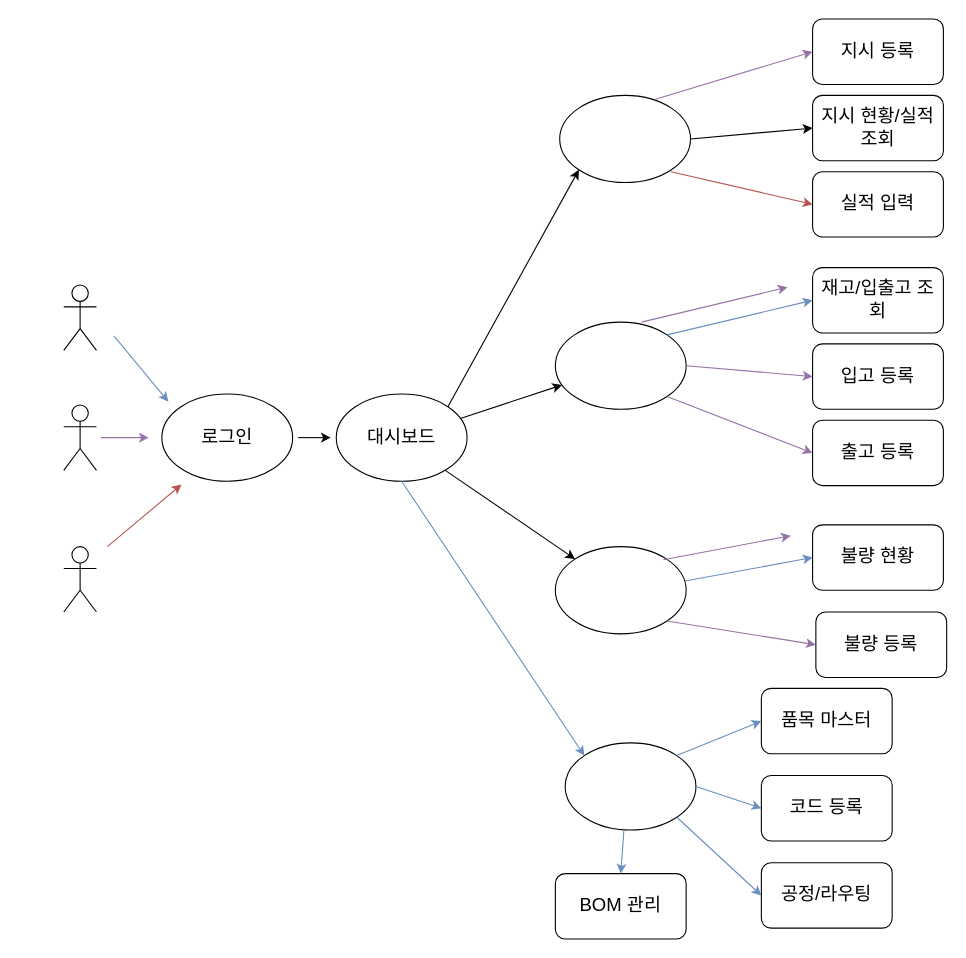
Some shapes in this 966 by 958 pixel diagram are drawn without their labels. Each missing label, with the centre of its shape:
Admin: pixel 79 317
Site Maneger: pixel 79 437
Worker: pixel 79 579
기준관리: pixel 630 786
생산: pixel 625 138
재고: pixel 620 365
품질: pixel 620 590
